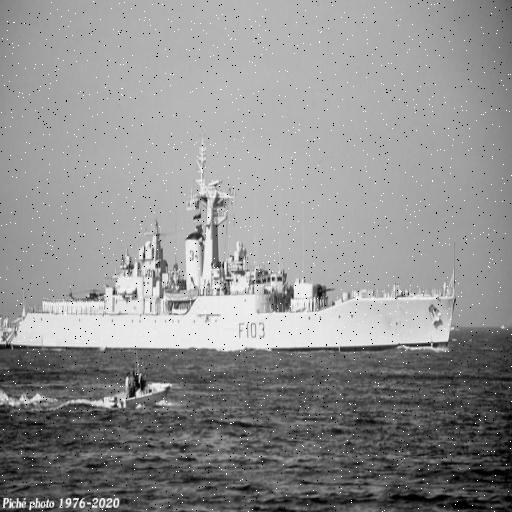Fragata: (1, 123, 462, 356)
